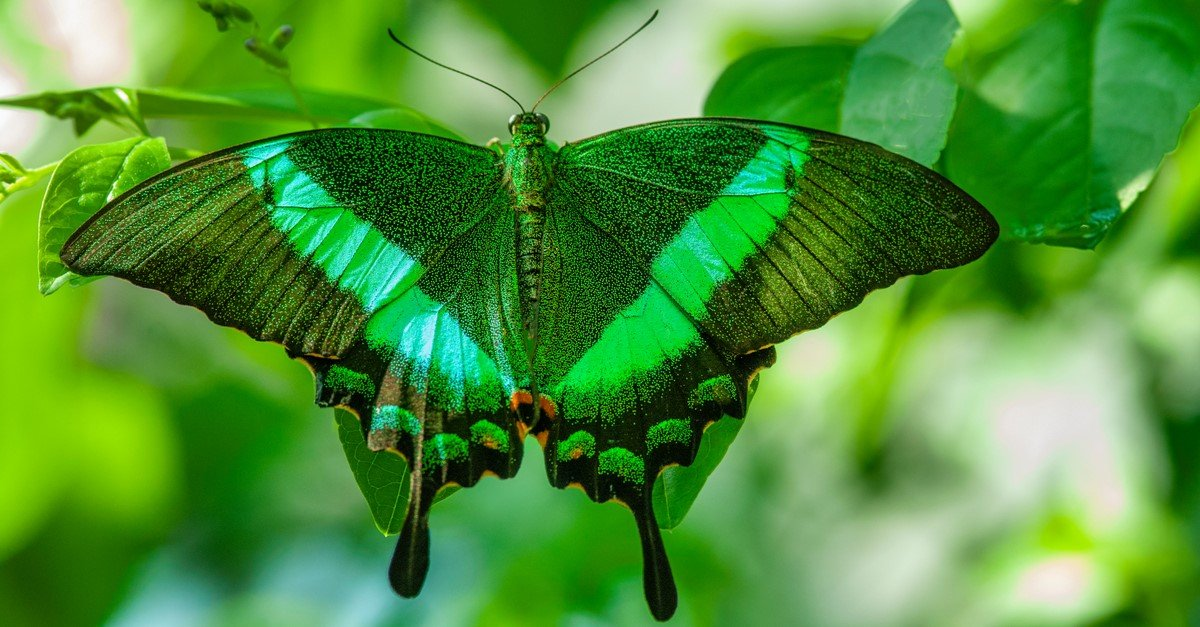kelebek: (29, 1, 1011, 627)
